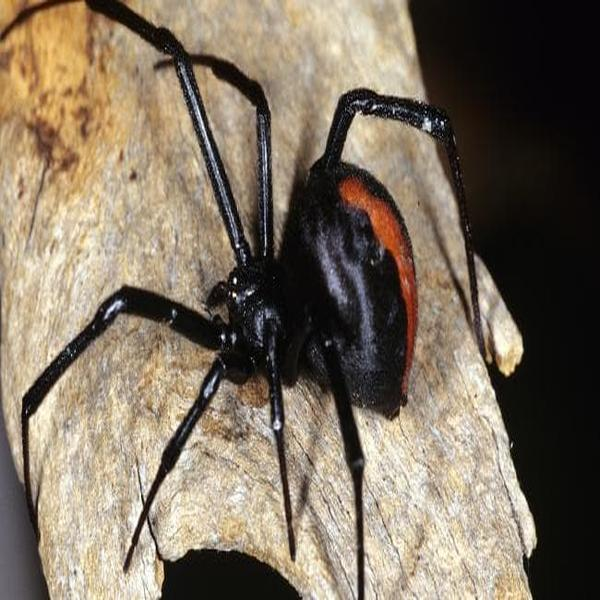Redback Spider: (43, 5, 486, 555)
